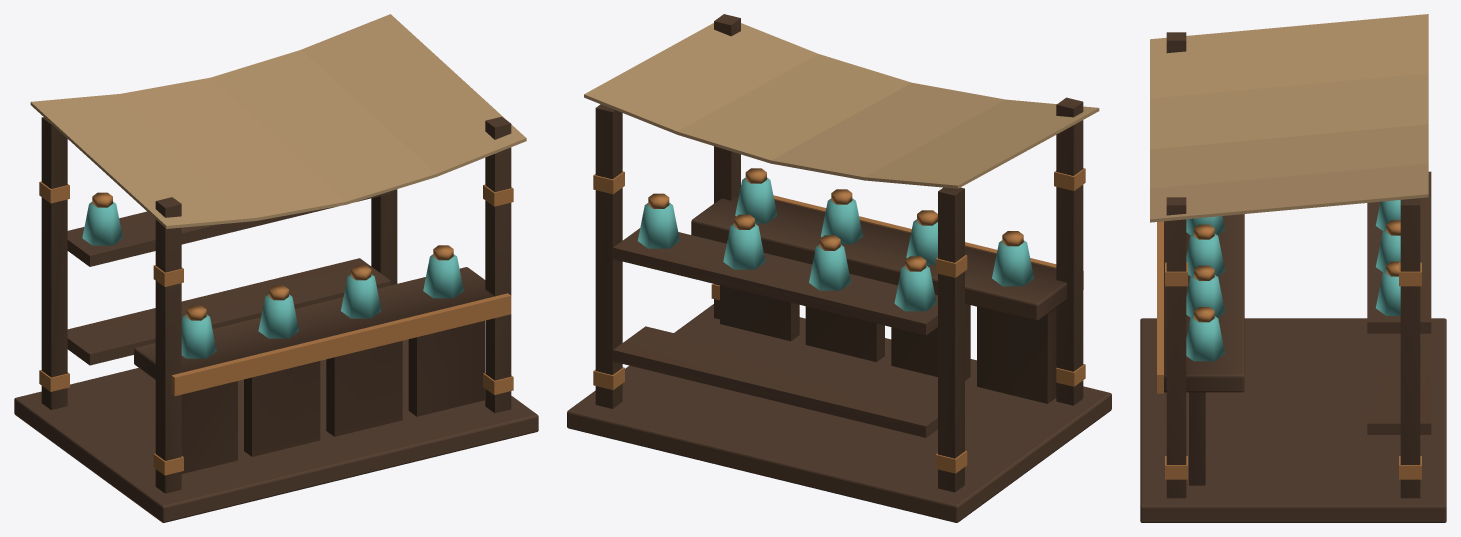
File: emberglass-market-stall-v1.glb
3 views of the same model, side by side, from view 1: azimuth 30°, elevation 25°; view 2: azimuth 150°, elevation 25°; view 3: azimuth 270°, elevation 25° (orthographic). The views are drawn at different scales.
Visible parts, largest first — view 1: GB_EMBERGLASS_MARKET_GEOMETRY; view 2: GB_EMBERGLASS_MARKET_GEOMETRY; view 3: GB_EMBERGLASS_MARKET_GEOMETRY.
Part boxes in pixels (x1=…): GB_EMBERGLASS_MARKET_GEOMETRY: x1=14, y1=14, x2=538, y2=522; GB_EMBERGLASS_MARKET_GEOMETRY: x1=567, y1=14, x2=1111, y2=522; GB_EMBERGLASS_MARKET_GEOMETRY: x1=1140, y1=14, x2=1446, y2=522.
Size of the model in its own units: 3.2 by 2.58 by 2.2.
